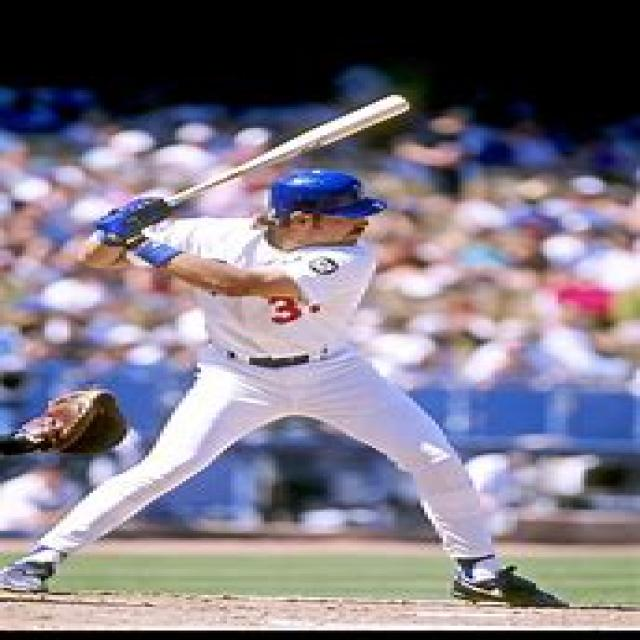bat: (154, 87, 420, 211)
